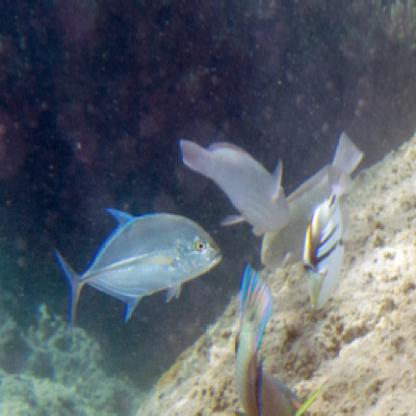Balistidae -Triggerfishes-: (300, 163, 348, 320)
Carangidae -Jacks-: (43, 225, 224, 353)
Scaridae -Parrotfishes-: (171, 123, 292, 240)
